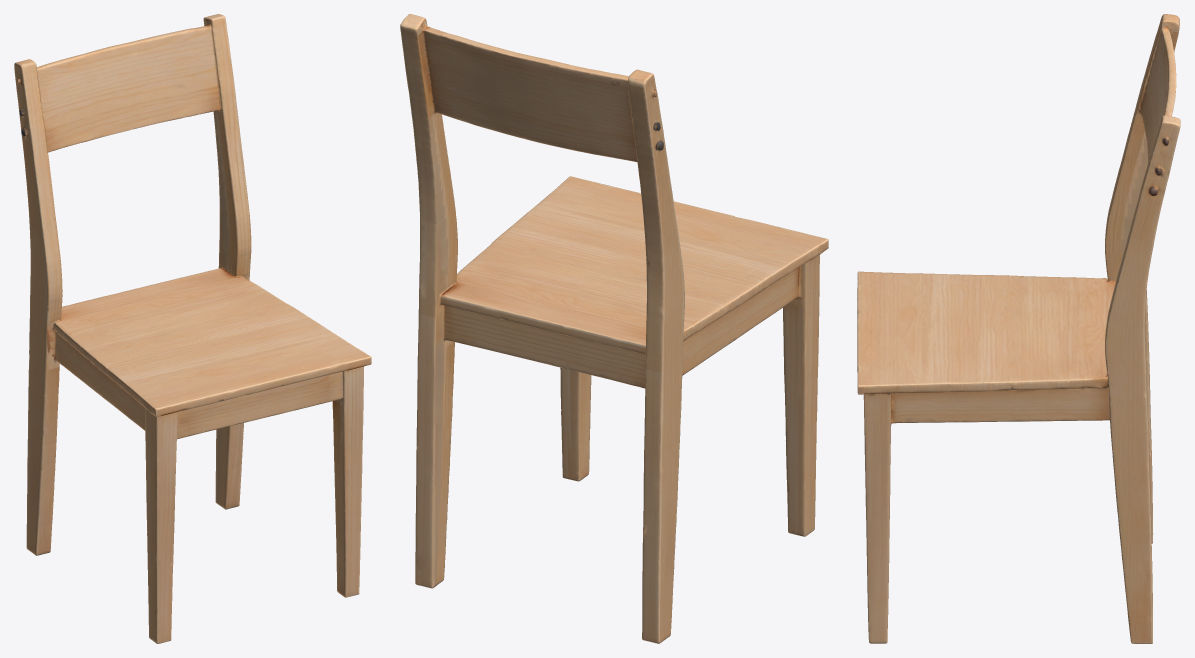
Rendered from 172cb272-a684-4fd7-bd28-0ee1d5a039d7_Simple_wooden_chair.glb.
3 views of the same model, side by side, from view 1: azimuth 30°, elevation 25°; view 2: azimuth 150°, elevation 25°; view 3: azimuth 270°, elevation 25° (orthographic). The views are drawn at different scales.
Visible parts, largest first — view 1: Simple_wooden_chair; view 2: Simple_wooden_chair; view 3: Simple_wooden_chair.
Part boxes in pixels (box(x1,y1,x2,y2)): Simple_wooden_chair: box(14, 14, 371, 643); Simple_wooden_chair: box(400, 14, 828, 643); Simple_wooden_chair: box(857, 14, 1180, 643).
Size of the model in its own units: 0.9418 by 2 by 1.12.
Materials: 1 (1 with a texture image).
